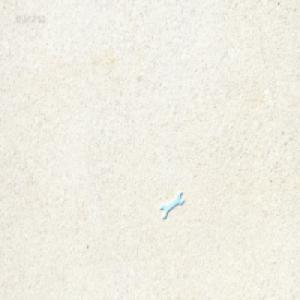Wrench: (160, 189, 185, 218)
